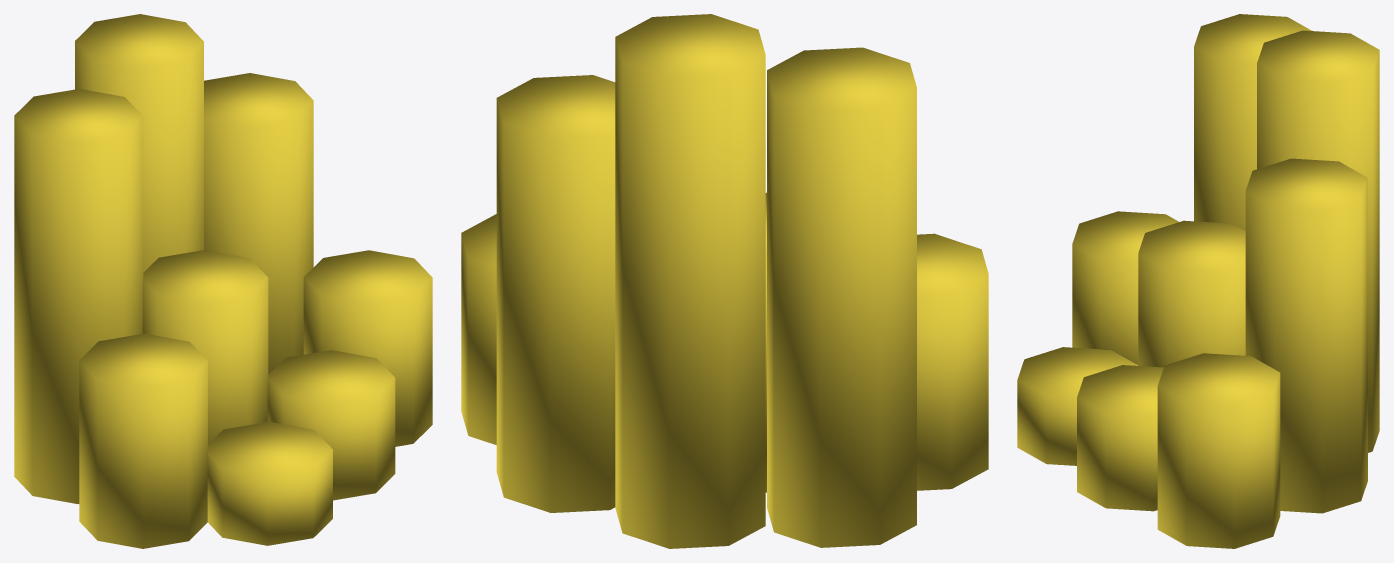
The model's file is Coins.glb.
3 views of the same model, side by side, from view 1: azimuth 30°, elevation 25°; view 2: azimuth 150°, elevation 25°; view 3: azimuth 270°, elevation 25° (orthographic). The views are drawn at different scales.
Visible parts, largest first — view 1: CoinCylinder.003; view 2: CoinCylinder.003; view 3: CoinCylinder.003.
Part boxes in pixels (x1,y1,x2,y2): CoinCylinder.003: (14,14,432,548); CoinCylinder.003: (461,14,988,548); CoinCylinder.003: (1017,14,1379,548).
Bounding box in the file's own units: 0.7752 × 0.7609 × 0.6541.
